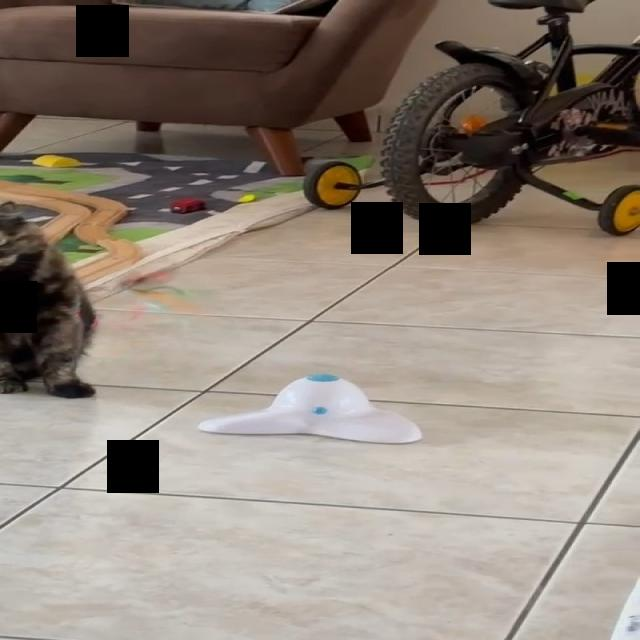authorized: (0, 200, 99, 398)
